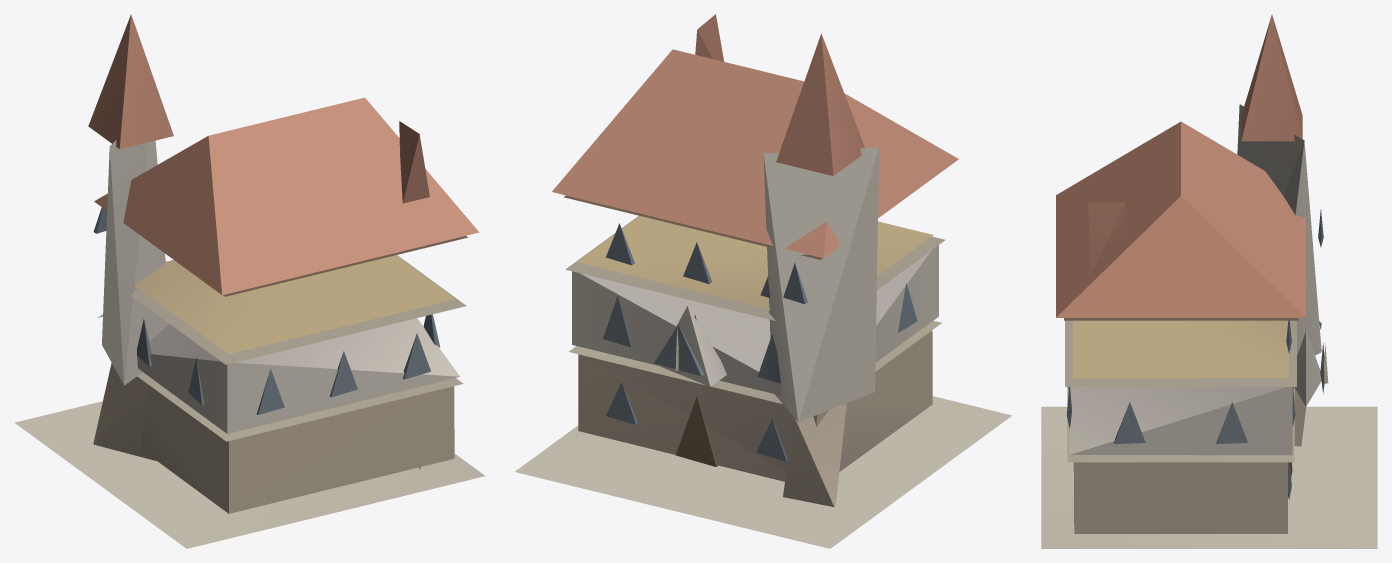
Rendered from house_patricians.v2.lite.glb.
3 views of the same model, side by side, from view 1: azimuth 30°, elevation 25°; view 2: azimuth 150°, elevation 25°; view 3: azimuth 270°, elevation 25° (orthographic). The views are drawn at different scales.
Parts seen in each view (by area): view 1: house_patricians; view 2: house_patricians; view 3: house_patricians.
Boxes of the visible parts, x1,y1,x2,y2 form: house_patricians: [14, 14, 484, 548]; house_patricians: [515, 14, 1011, 548]; house_patricians: [1041, 14, 1377, 548].
Size of the model in its own units: 2.98 by 4.12 by 2.96.
